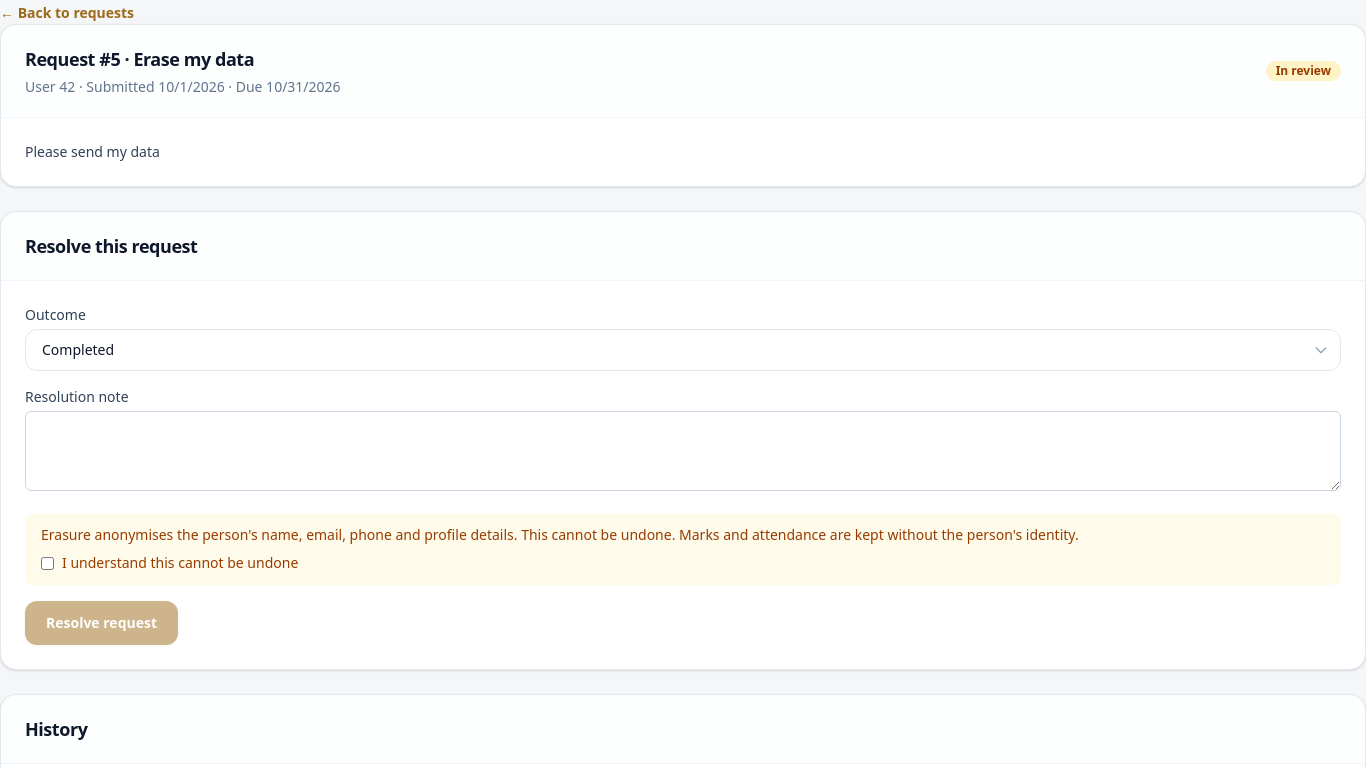
Test case: PrivacyRequestDetailPage › resets the confirmation when the outcome changes
Type "note" into the text box labelled "Resolution note" at {"x": 683, "y": 451}, box [25, 411, 1341, 491]
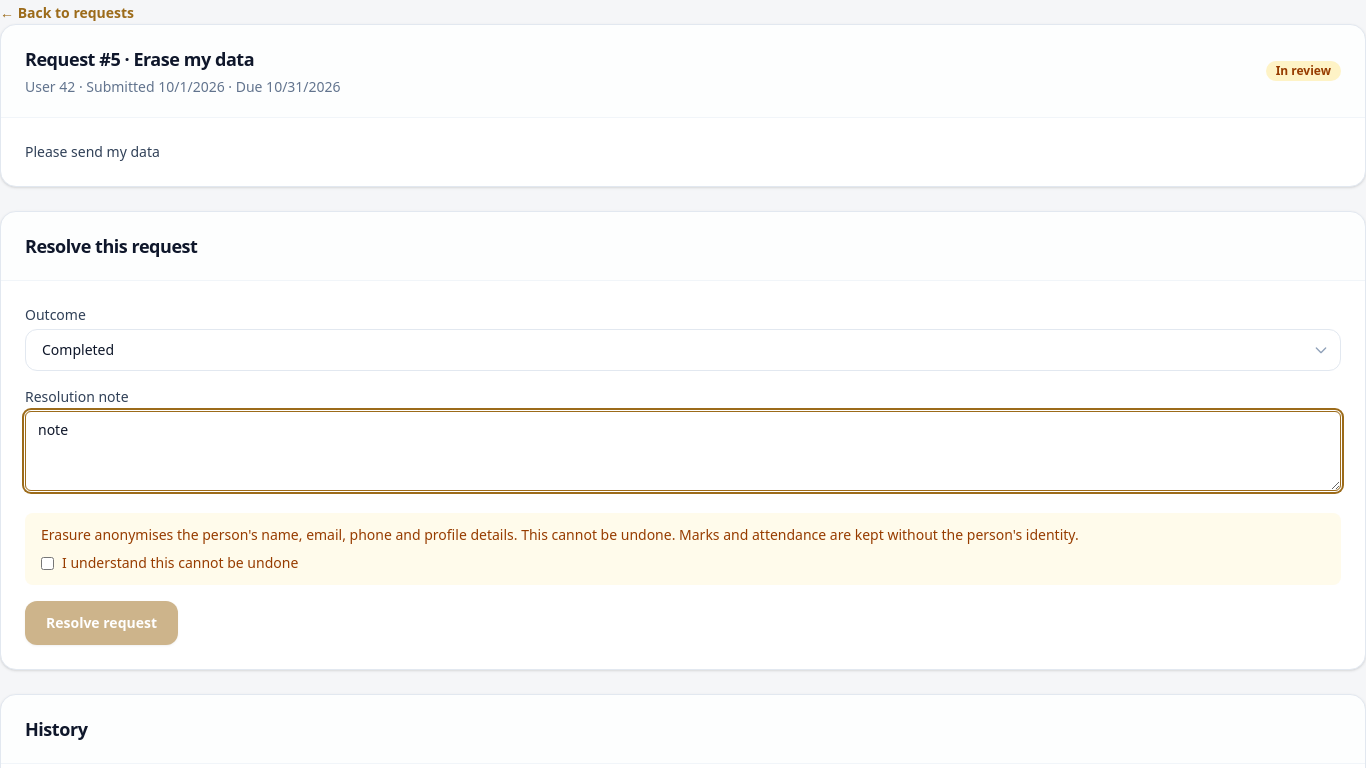
Click the checkbox labelled "I understand this cannot be undone" at {"x": 48, "y": 563}, box [41, 556, 54, 570]
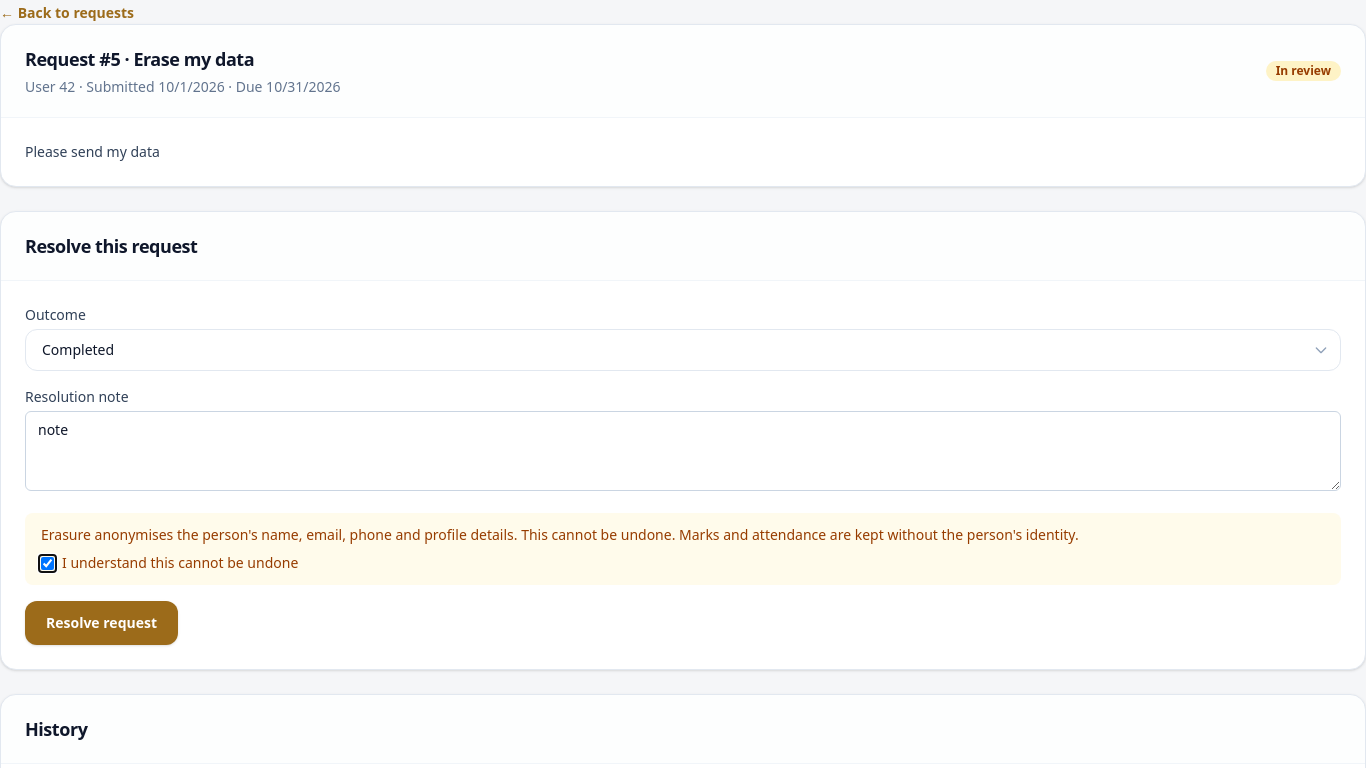
Result: the button "Resolve request" is enabled at [25, 601, 178, 645]
Select "Rejected" in the dropdown labelled "Outcome" at {"x": 683, "y": 350}, box [25, 329, 1341, 371]
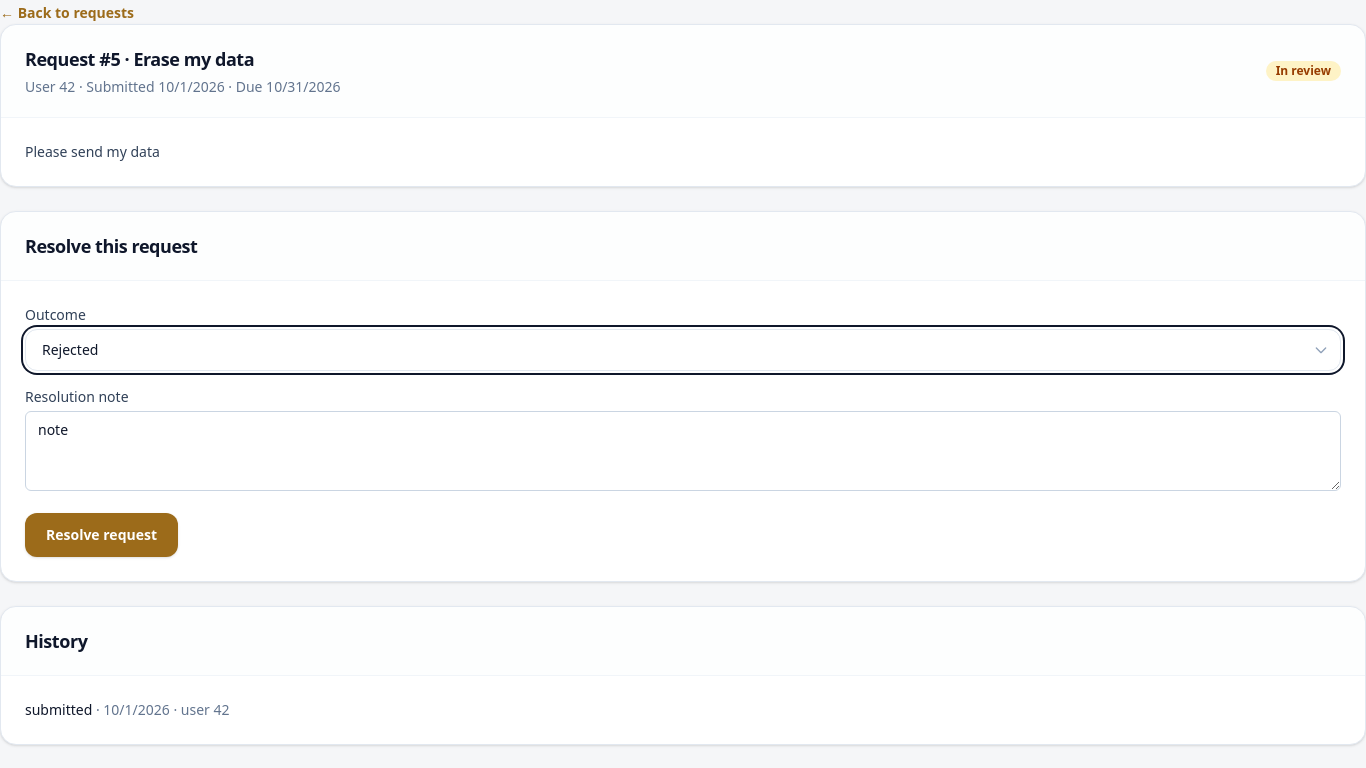
Select "Completed" in the dropdown labelled "Outcome" at {"x": 683, "y": 350}, box [25, 329, 1341, 371]
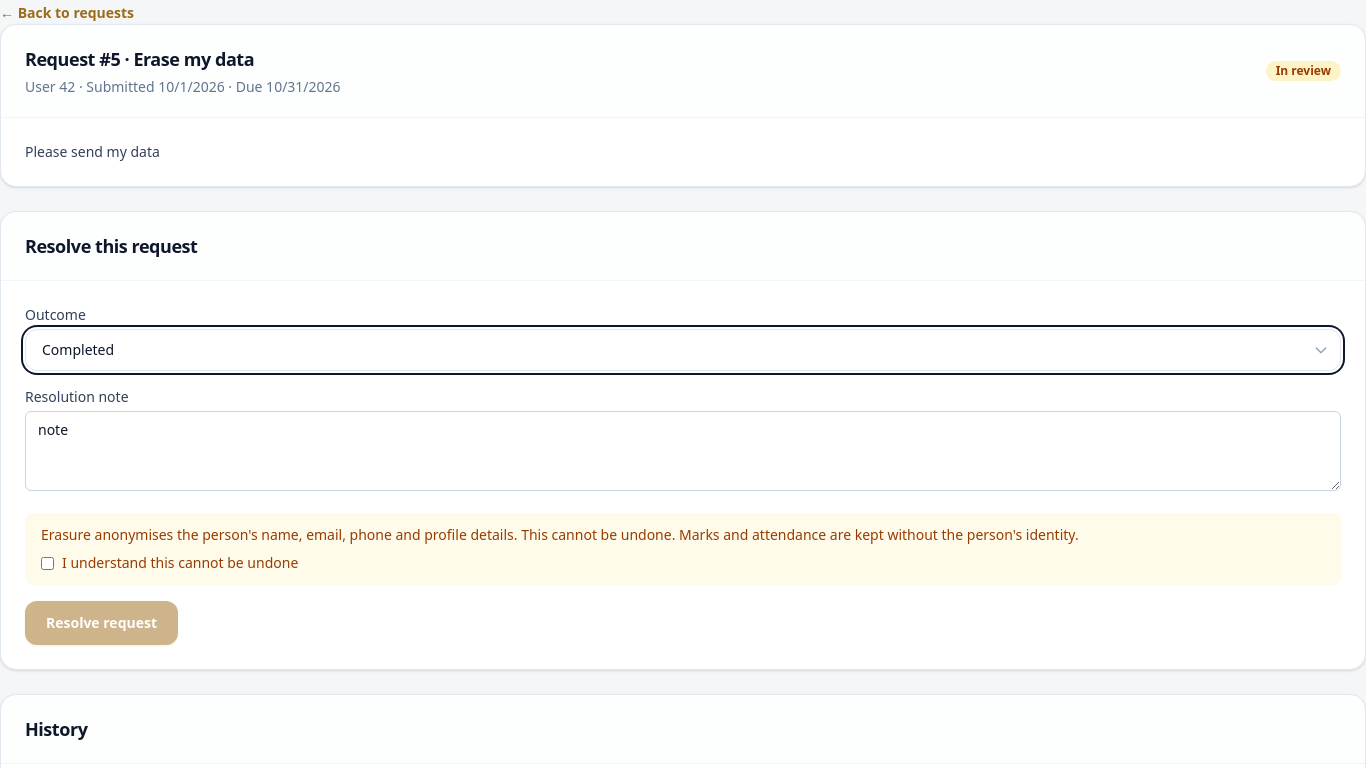
Result: the button "Resolve request" is disabled at [25, 601, 178, 645]
